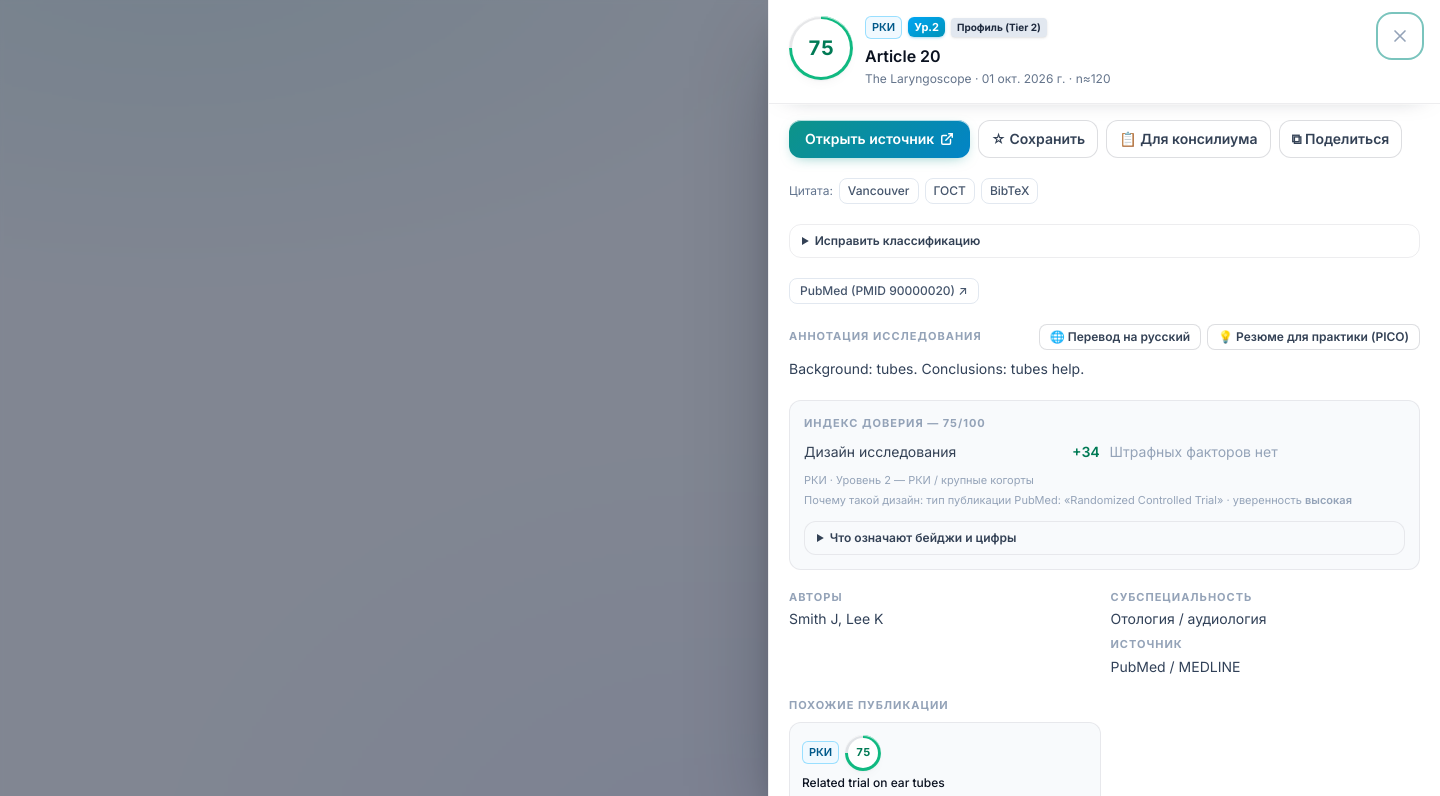
Test: <ArticleDrawer /> › AI-перевод: поток SSE собирается в текст, повторный клик скрывает без нового запроса; резюме — отдельный запрос
The image size is (1440, 796).
Click the button "🌐 Перевод на русский": (1120, 336) 1039,324 -> 1201,350
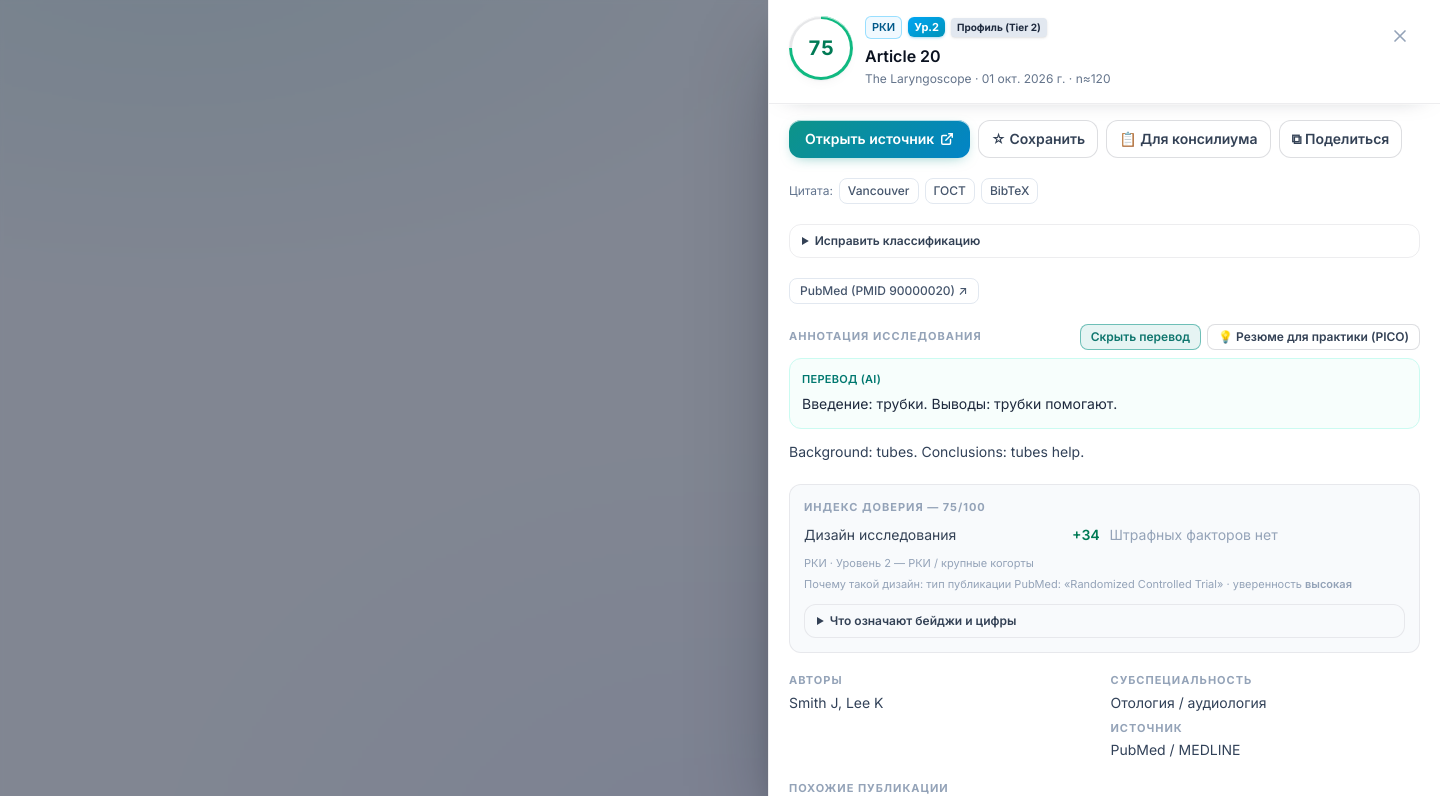
Expected: the text "Введение: трубки. Выводы: трубки помогают." is shown, 802,395 -> 1117,412
# Повторный клик — просто скрыть, без запроса
Click the button "Скрыть перевод": (1140, 336) 1080,324 -> 1201,350
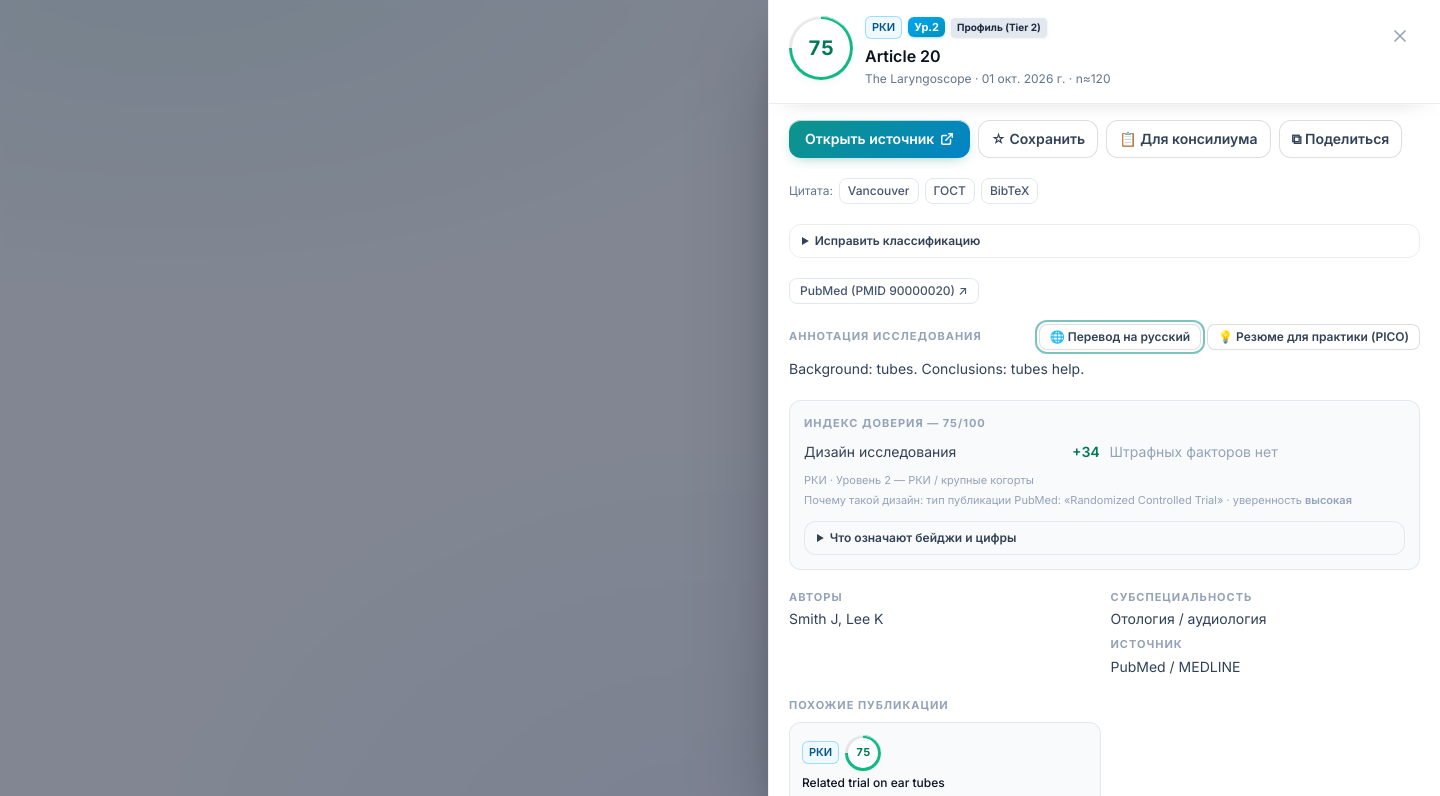
Expected: the text "Введение: трубки. Выводы: трубки помогают." is gone
Click the button "🌐 Перевод на русский": (1120, 336) 1039,324 -> 1201,350
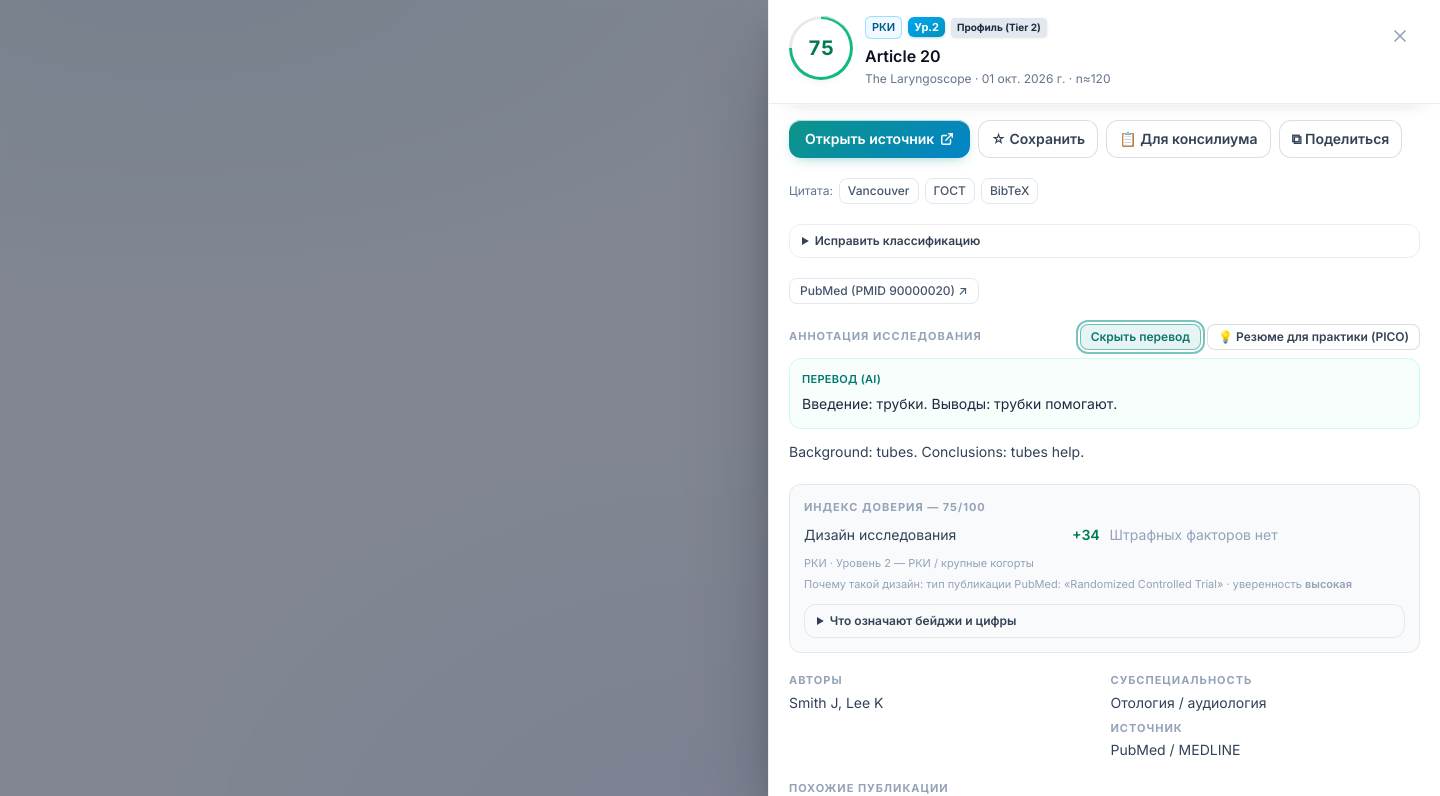
Expected: the text "Введение: трубки. Выводы: трубки помогают." is shown, 802,395 -> 1117,412
Click the button "💡 Резюме для практики (PICO)": (1314, 336) 1207,324 -> 1420,350
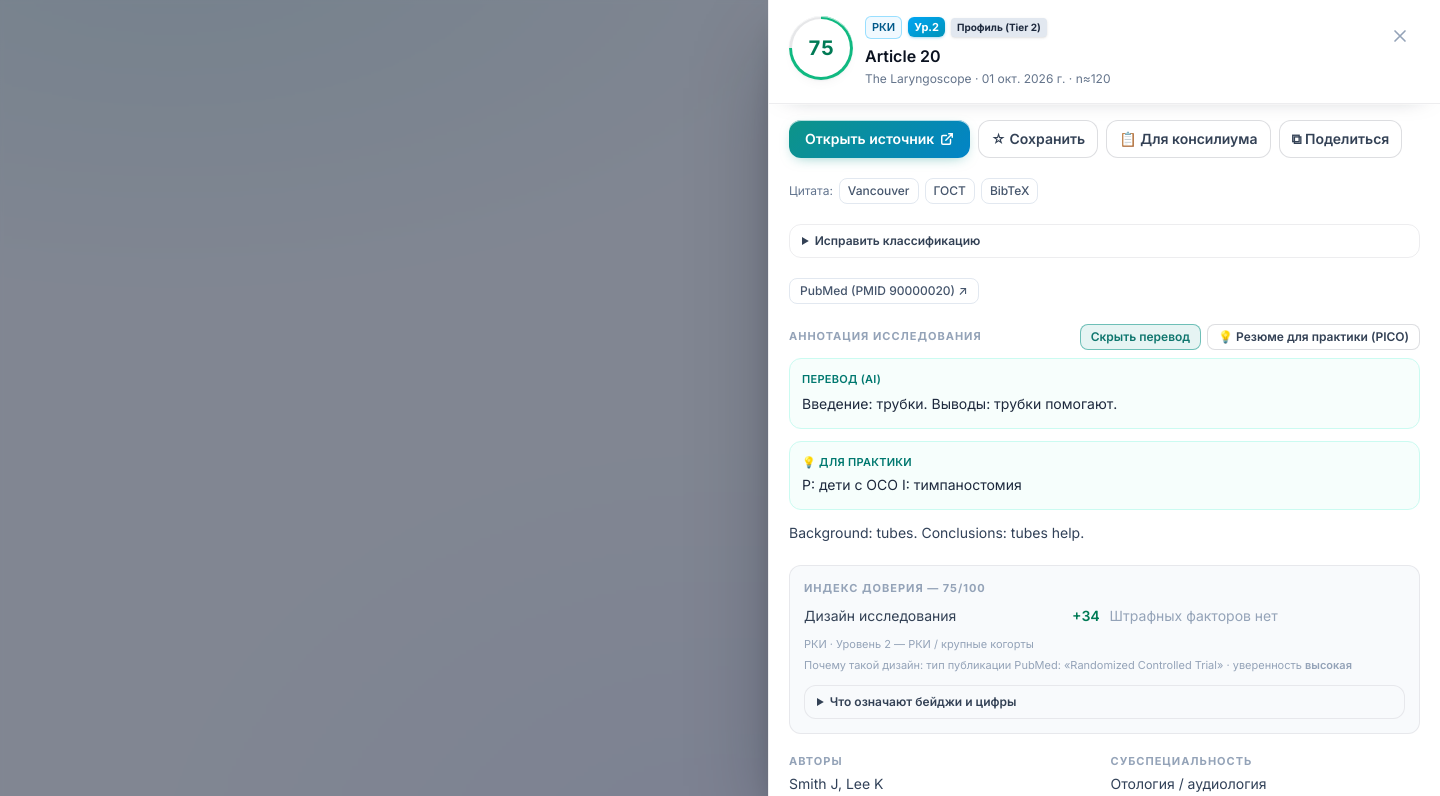
Expected: the text "P: дети с ОСО I: тимпаностомия" is shown, 802,476 -> 1022,493
